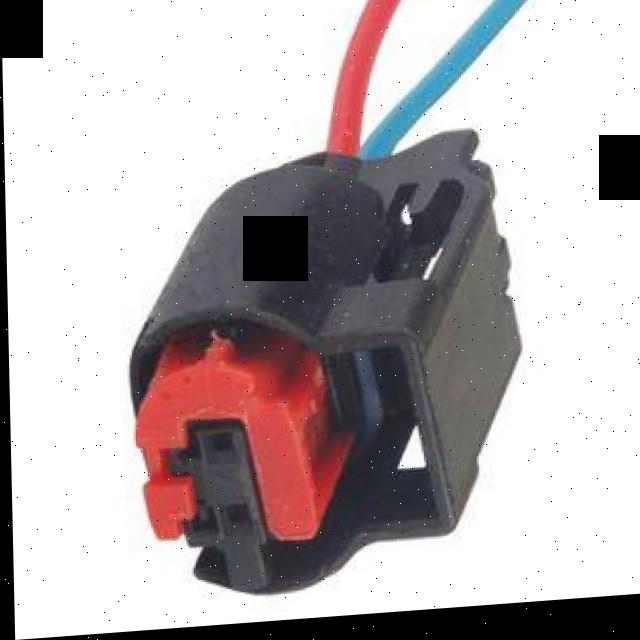connector: (129, 140, 518, 597)
